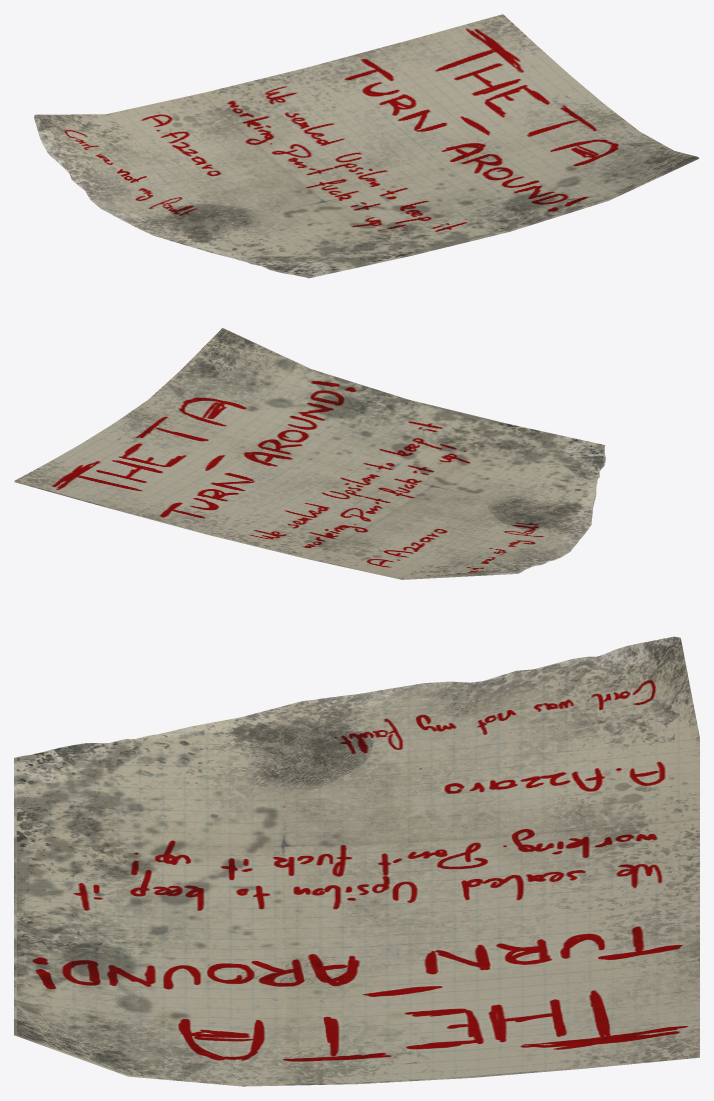
Rendered from notes_upsilon_turnaround.dae.
3 views of the same model, one above another, from view 1: azimuth 30°, elevation 25°; view 2: azimuth 150°, elevation 25°; view 3: azimuth 270°, elevation 25° (orthographic). The views are drawn at different scales.
Visible parts, largest first — view 1: Plane; view 2: Plane; view 3: Plane.
Part boxes in pixels (x1,y1,x2,y2): Plane: (34, 14, 699, 278); Plane: (14, 328, 605, 579); Plane: (14, 636, 699, 1086).
Size of the model in its own units: 0.4234 by 0.3036 by 0.0406.
1 material, 1 textured.
